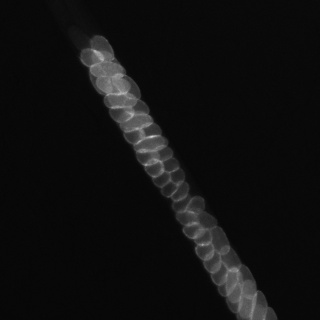embryo: (91, 50, 125, 76), (236, 284, 258, 319), (216, 267, 240, 297), (96, 74, 130, 95), (112, 73, 140, 98), (90, 35, 114, 60), (133, 135, 168, 152), (239, 265, 257, 298), (224, 270, 243, 301), (119, 114, 153, 131), (220, 245, 242, 271), (90, 62, 125, 78), (68, 26, 90, 51), (211, 226, 230, 254), (103, 93, 137, 108), (124, 97, 149, 117), (226, 284, 243, 313), (194, 209, 218, 229), (80, 48, 104, 67), (171, 180, 189, 204), (210, 262, 228, 286), (109, 106, 134, 123), (202, 251, 221, 273), (171, 195, 195, 212), (136, 150, 161, 166), (143, 159, 164, 178), (175, 210, 199, 225), (182, 223, 204, 239), (185, 196, 205, 213), (192, 229, 212, 246), (152, 172, 172, 188), (195, 244, 215, 260), (123, 129, 144, 144), (161, 181, 179, 198), (155, 146, 174, 162), (142, 123, 162, 137), (163, 156, 180, 172), (171, 170, 185, 184)
